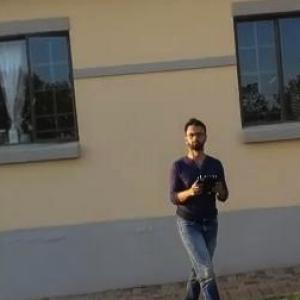follow: (172, 108, 246, 299)
